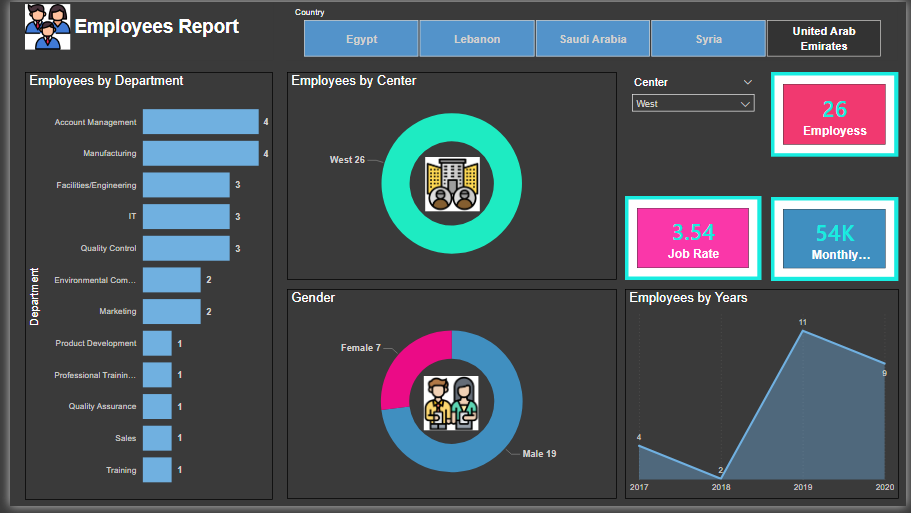

This screenshot's page, from the dashboard's own definition file:
{"tool":"powerbi","page":{"name":"Page 1","canvas":[1280,720],"ordinal":0},"visuals":[{"type":"clusteredBarChart","title":"Employees by Department","fields":{"Category":["EmpTable.Department"],"Y":["CountNonNull(EmpTable.No)"]},"box":[21.6,100,354.1,610.8],"z":0},{"type":"donutChart","title":"Employees by Center","fields":{"Category":["EmpTable.Center"],"Y":["CountNonNull(EmpTable.No)"]},"box":[395,100.5,470.7,297.3],"z":1000},{"type":"donutChart","title":"Gender","fields":{"Category":["EmpTable.Gender"],"Y":["CountNonNull(EmpTable.Gender)"]},"box":[395,410.2,470.7,300],"z":2000},{"type":"areaChart","title":"Employees by Years","fields":{"Category":["EmpTable.Start Date.Variation.Date Hierarchy.Year","EmpTable.Start Date.Variation.Date Hierarchy.Quarter","EmpTable.Start Date.Variation.Date Hierarchy.Month","EmpTable.Start Date.Variation.Date Hierarchy.Day"],"Y":["CountNonNull(EmpTable.No)"]},"box":[878.1,410.2,390.9,300],"z":3000},{"type":"cardVisual","fields":{"Data":["CountNonNull(EmpTable.No)"]},"box":[1087.3,100.5,181.7,121.1],"z":4000},{"type":"cardVisual","fields":{"Data":["Sum(EmpTable.Monthly Salary)"]},"box":[1087.3,278,181.7,119.7],"z":5000},{"type":"cardVisual","fields":{"Data":["Avg(EmpTable.Job Rate)"]},"box":[878.4,277,194.6,120.3],"z":6000},{"type":"slicer","fields":{"Values":["EmpTable.Country"]},"box":[394.6,2.7,874.3,81.1],"z":7000},{"type":"slicer","fields":{"Values":["EmpTable.Center"]},"box":[878.4,101.4,194.6,120.3],"z":8000},{"type":"textbox","box":[86.5,0,289.2,83.8],"z":9000},{"type":"image","box":[21.6,0,64.9,71.6],"z":10000},{"type":"image","box":[586.5,533.8,86.5,78.4],"z":11000},{"type":"image","box":[586.5,221.6,90.5,78.4],"z":12000}]}

Visuals, with their boxes in screenshot pixels (x1, y1, x2, y2), scaled from the page's 1280x720 canvas onto the 911x513 screenshot:
"Employees by Department" clusteredBarChart: {"x1": 15, "y1": 71, "x2": 267, "y2": 506}
"Employees by Center" donutChart: {"x1": 281, "y1": 72, "x2": 616, "y2": 283}
"Gender" donutChart: {"x1": 281, "y1": 292, "x2": 616, "y2": 506}
"Employees by Years" areaChart: {"x1": 625, "y1": 292, "x2": 903, "y2": 506}
cardVisual - CountNonNull(EmpTable.No): {"x1": 774, "y1": 72, "x2": 903, "y2": 158}
cardVisual - Sum(EmpTable.Monthly Salary): {"x1": 774, "y1": 198, "x2": 903, "y2": 283}
cardVisual - Avg(EmpTable.Job Rate): {"x1": 625, "y1": 197, "x2": 764, "y2": 283}
slicer - EmpTable.Country: {"x1": 281, "y1": 2, "x2": 903, "y2": 60}
slicer - EmpTable.Center: {"x1": 625, "y1": 72, "x2": 764, "y2": 158}
textbox: {"x1": 62, "y1": 0, "x2": 267, "y2": 60}
image: {"x1": 15, "y1": 0, "x2": 62, "y2": 51}
image: {"x1": 417, "y1": 380, "x2": 479, "y2": 436}
image: {"x1": 417, "y1": 158, "x2": 482, "y2": 214}
